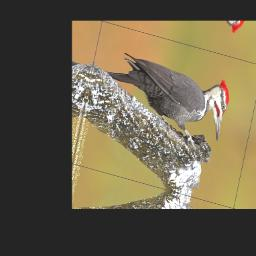Woodpecker: (92, 46, 233, 155)
